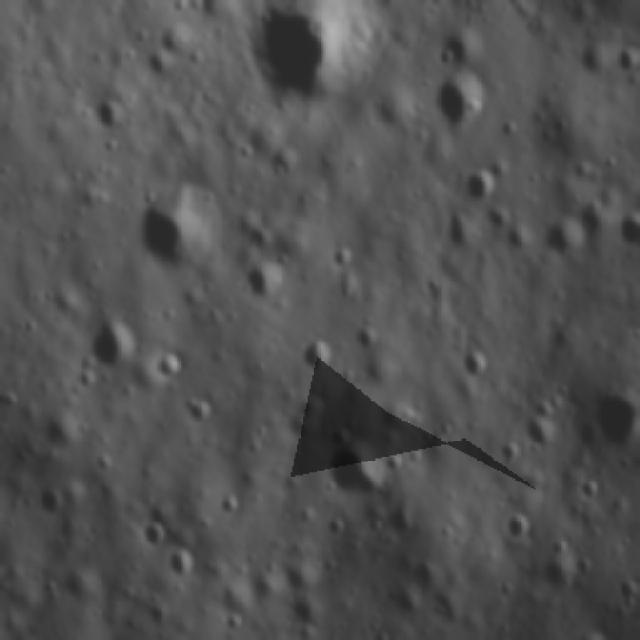crater: (238, 0, 392, 103), (134, 187, 215, 276), (317, 438, 388, 502), (430, 72, 496, 139), (592, 380, 640, 457), (86, 316, 146, 372), (236, 260, 289, 311), (274, 590, 332, 636), (538, 214, 587, 268), (38, 404, 87, 453), (436, 29, 482, 80), (532, 0, 640, 17), (458, 165, 502, 206), (520, 410, 560, 452), (382, 583, 423, 622), (568, 204, 608, 242), (161, 549, 202, 583), (153, 344, 184, 388), (300, 337, 334, 377), (35, 481, 70, 519), (182, 393, 218, 429), (143, 44, 177, 82), (540, 558, 575, 594), (96, 96, 130, 132), (330, 239, 361, 278), (385, 504, 420, 538), (458, 349, 494, 382), (614, 208, 640, 250), (505, 508, 532, 548), (574, 475, 603, 510), (142, 518, 170, 554), (611, 576, 640, 610), (350, 323, 381, 354), (383, 442, 409, 478), (615, 41, 640, 78), (576, 552, 596, 582), (547, 536, 571, 559), (419, 0, 453, 9)
